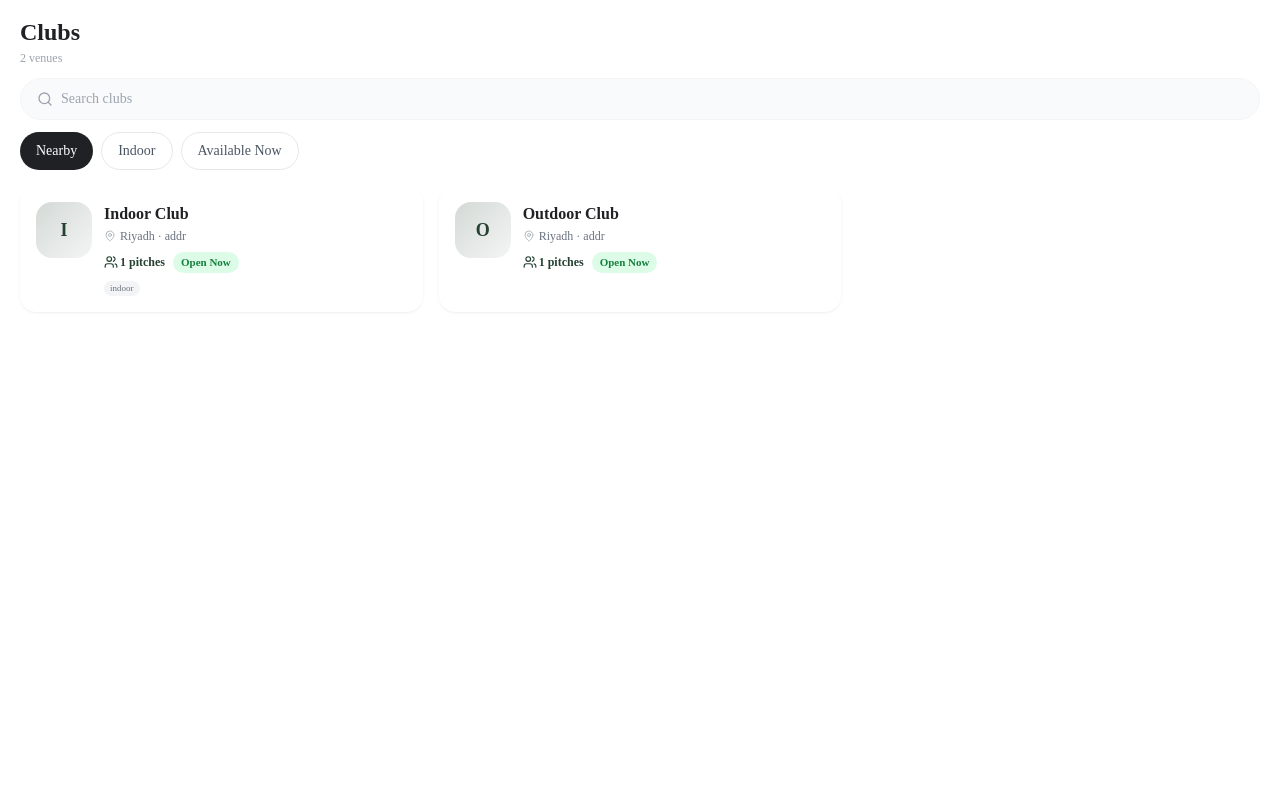
Test: clubs page — run #68 drain slice › Indoor still filters by the amenities list
This screenshot has width=1280, height=800.
Click the button "Indoor".
click(137, 151)  # box left=101, top=132, right=172, bottom=170
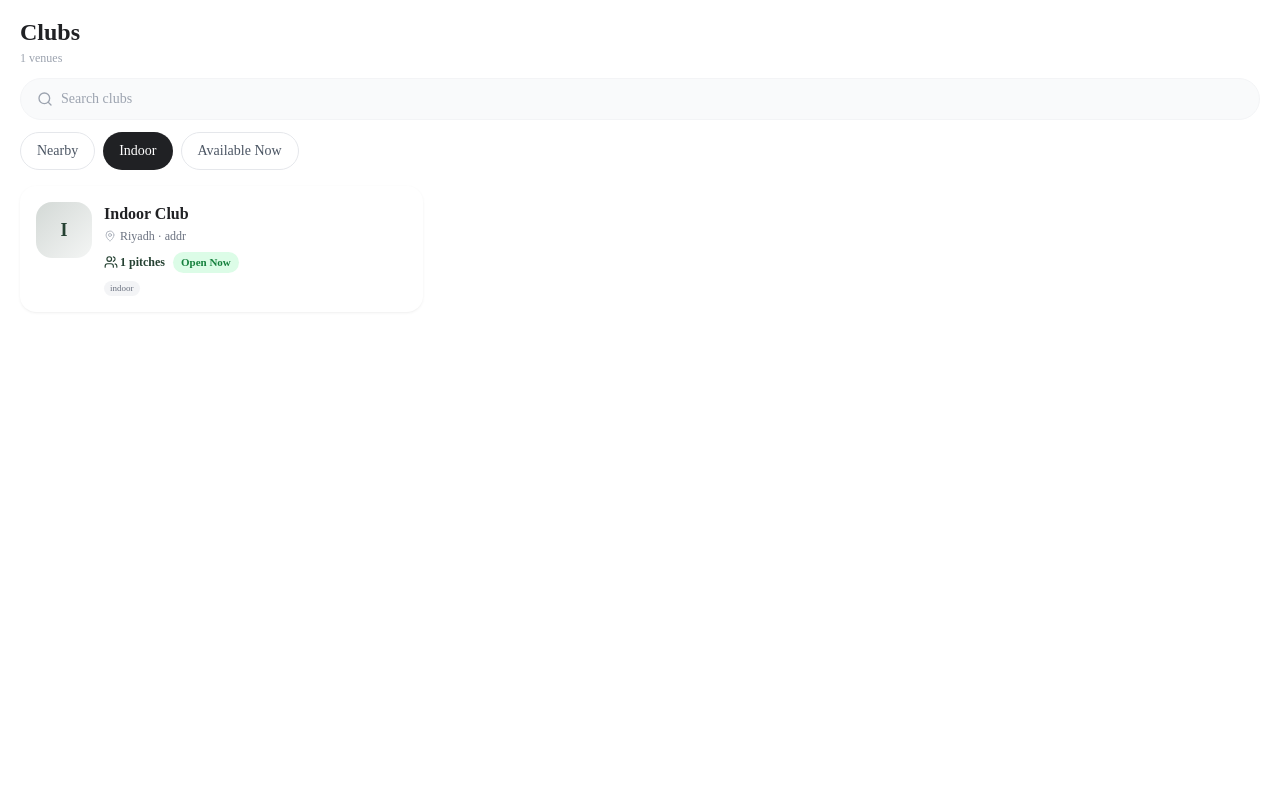
Expected: the heading "Indoor Club" is shown, left=104, top=202, right=189, bottom=226
Result: the link "Outdoor Club" is gone
